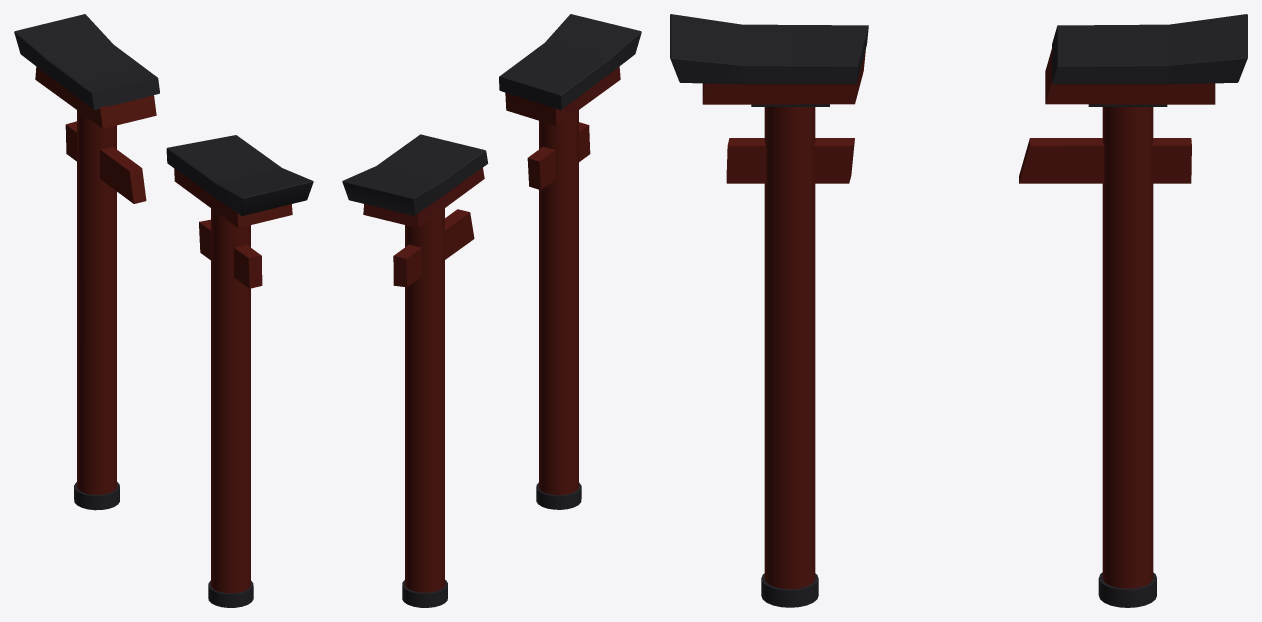
The model's file is column02.fbx.
3 renders of one model, left to right at view 1: azimuth 30°, elevation 25°; view 2: azimuth 150°, elevation 25°; view 3: azimuth 270°, elevation 25°, orthographic. The views are drawn at different scales.
Visible parts, largest first — view 1: column02; view 2: column02; view 3: column02.
Boxes of the visible parts, x1=… form: column02: x1=14, y1=14, x2=313, y2=607; column02: x1=342, y1=14, x2=641, y2=607; column02: x1=670, y1=14, x2=1247, y2=607.
Bounding box in the file's own units: 200 × 1180 × 1103.
